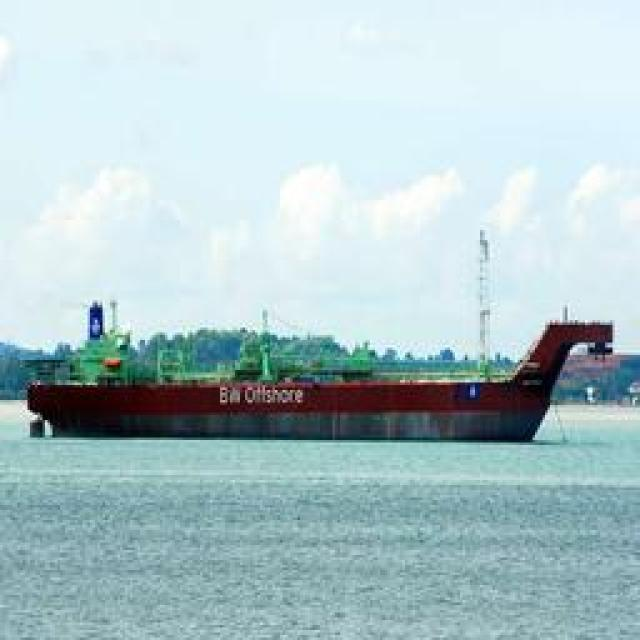CIV_Ship: (29, 328, 609, 442)
